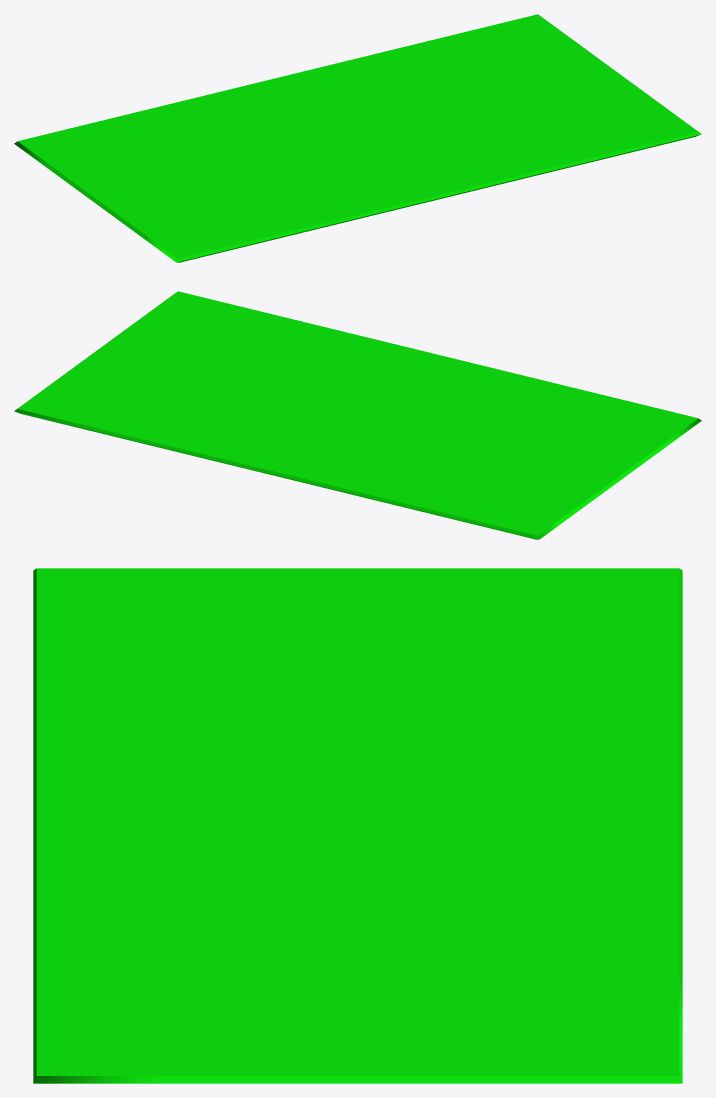
Rendered from AlfombraGrande01.fbx.
3 renders of one model, top to bottom at view 1: azimuth 30°, elevation 25°; view 2: azimuth 150°, elevation 25°; view 3: azimuth 270°, elevation 25°, orthographic. The views are drawn at different scales.
Parts seen in each view (by area): view 1: pPlane7; view 2: pPlane7; view 3: pPlane7.
Boxes of the visible parts, x1,y1,x2,y2 form: pPlane7: [14, 14, 701, 262]; pPlane7: [14, 291, 701, 539]; pPlane7: [33, 568, 682, 1083].
Size of the model in its own units: 4.88 by 0.0436 by 2.61.
